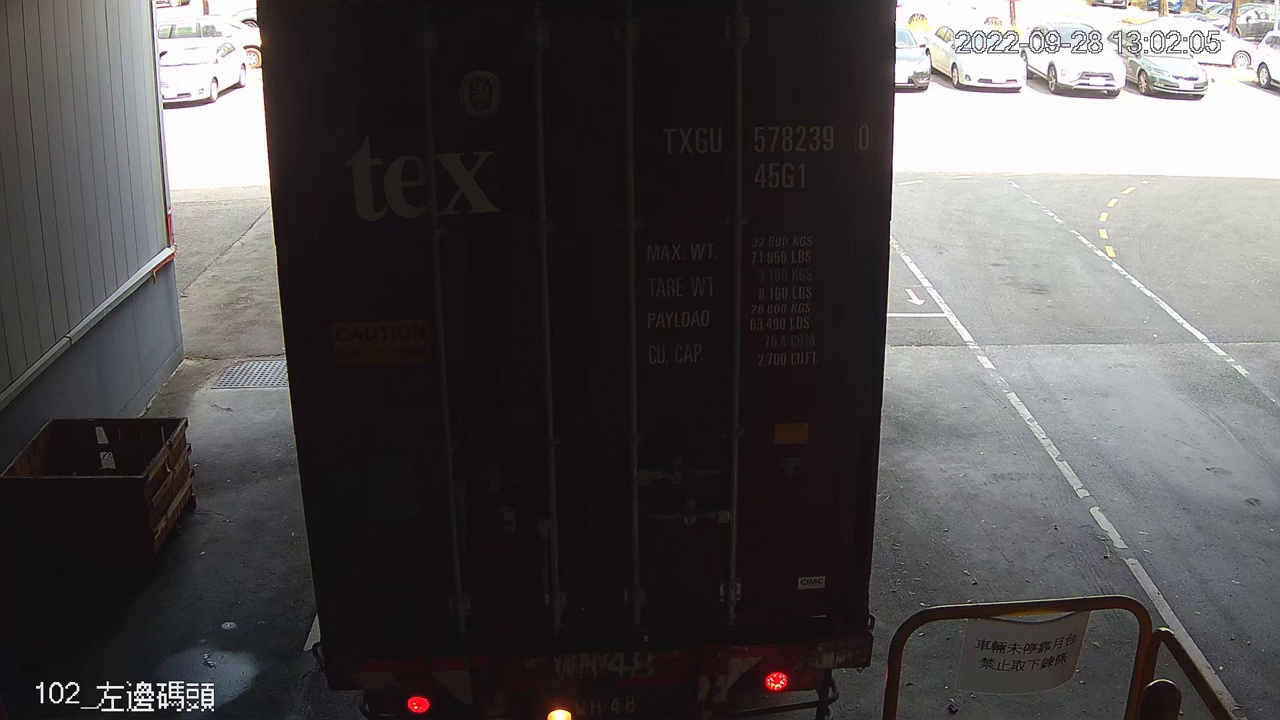container: (654, 114, 880, 197)
